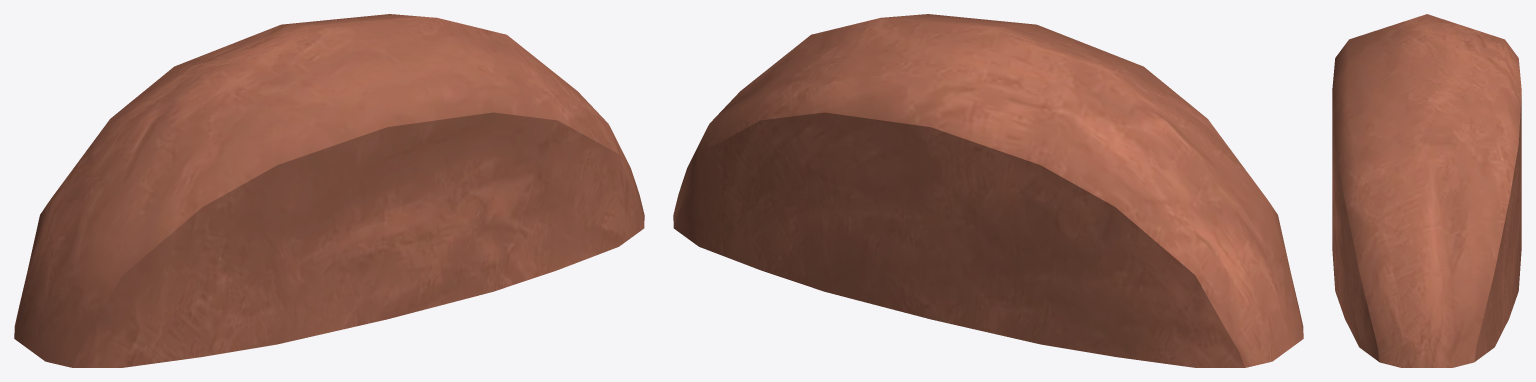
The model's file is mountain01.glb.
3 renders of one model, left to right at view 1: azimuth 30°, elevation 25°; view 2: azimuth 150°, elevation 25°; view 3: azimuth 270°, elevation 25°, orthographic. The views are drawn at different scales.
Parts seen in each view (by area): view 1: Mountain01; view 2: Mountain01; view 3: Mountain01.
Boxes of the visible parts, bbox=[...] form: Mountain01: bbox=[14, 14, 644, 367]; Mountain01: bbox=[673, 14, 1303, 367]; Mountain01: bbox=[1332, 14, 1521, 367].
Size of the model in its own units: 6.78 by 2.69 by 2.26.
1 material, 1 textured.
